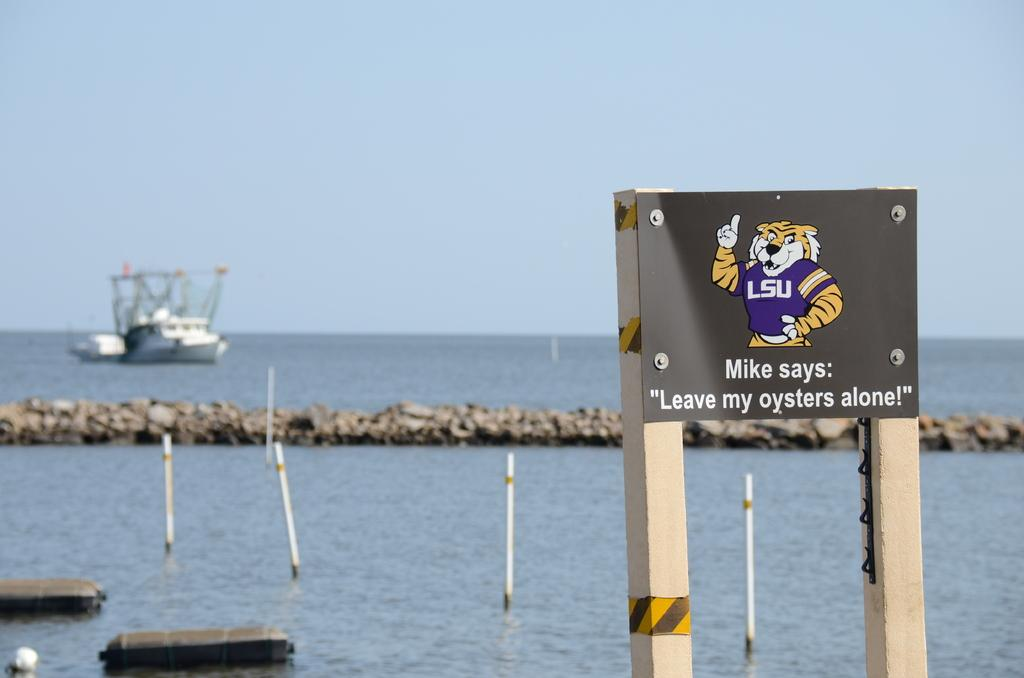PassengerShip: (104, 302, 238, 366)
